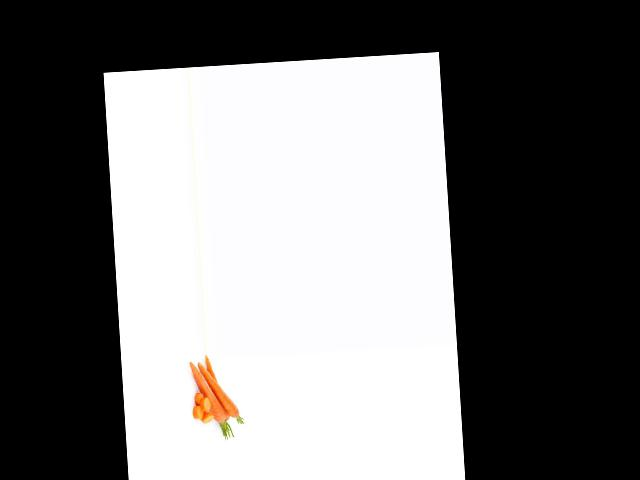carrot: (189, 359, 228, 430)
